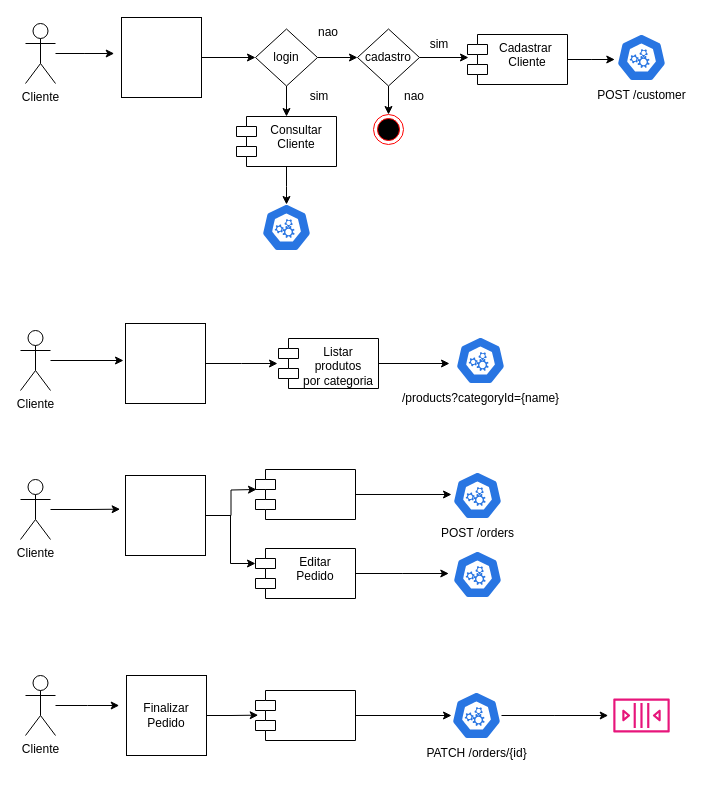
The diagram is 711 pixels wide and 786 high, and some of its shapes have lost their labels. Here are the shapes that lost their labels. From the top down, the centre of each, then its label:
the point at 161,57: identificação do cliente
the point at 286,227: GET /customer/:id
the point at 165,363: Montar Pedido
the point at 305,494: Cadastrar Pedido
the point at 165,515: Confirmar Pedido
the point at 477,574: PATCH /orders/{id}/products DELETE /orders/{id}/products
the point at 305,715: Iniciar Preparo
the point at 641,715: sqs-orders-inicia- preparacao-produto
